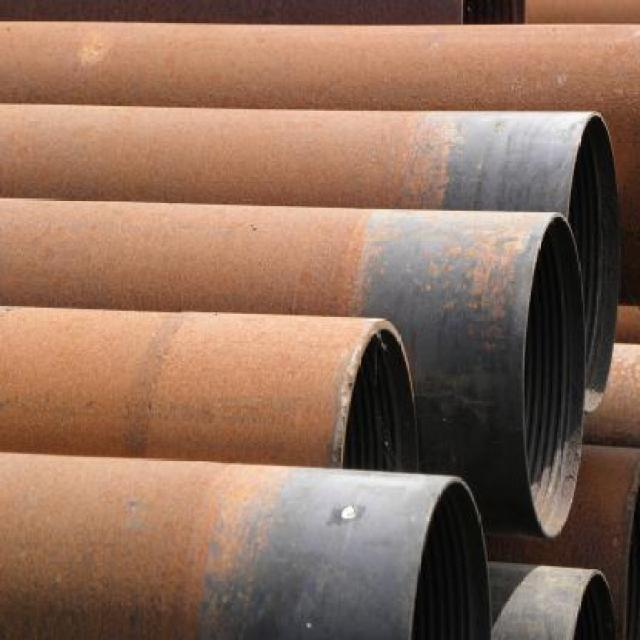corrosion: (6, 17, 640, 638)
